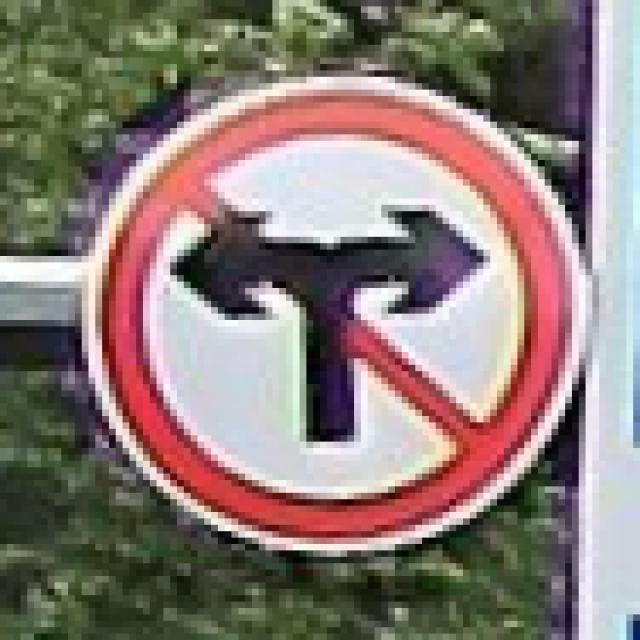Not that Direction: (76, 77, 588, 532)
